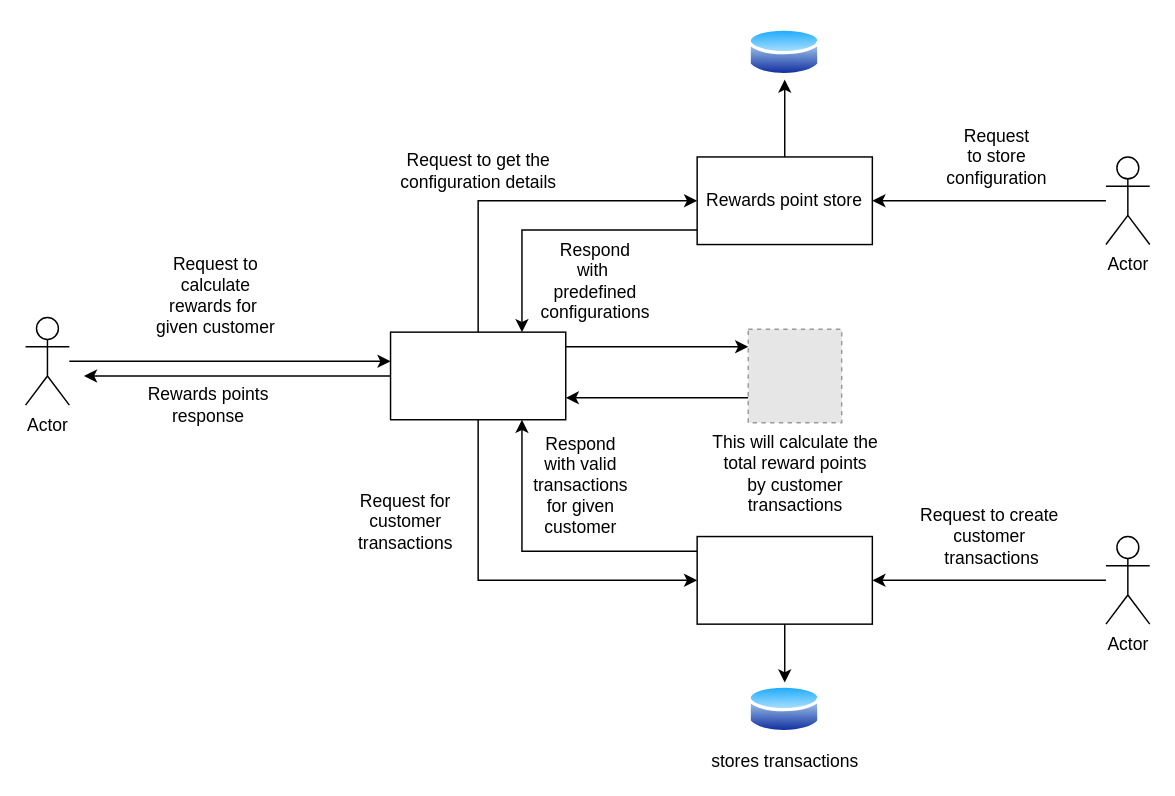
This 1175x796 diagram has some shape labels left out. Grey dashed boxes stand in for pictures. The centre of each missing label's shape, as x and y in pixels:
"customer transactions" goes at [784,579].
"rewards calculator" goes at [477,375].
"Stores configuration" goes at [784,52].
